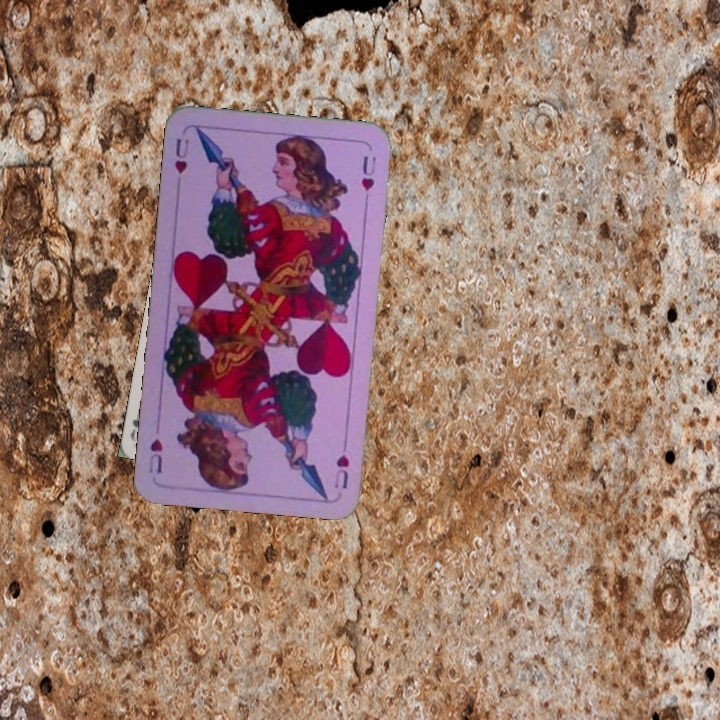HU: (330, 435, 352, 492), (170, 134, 192, 177)
